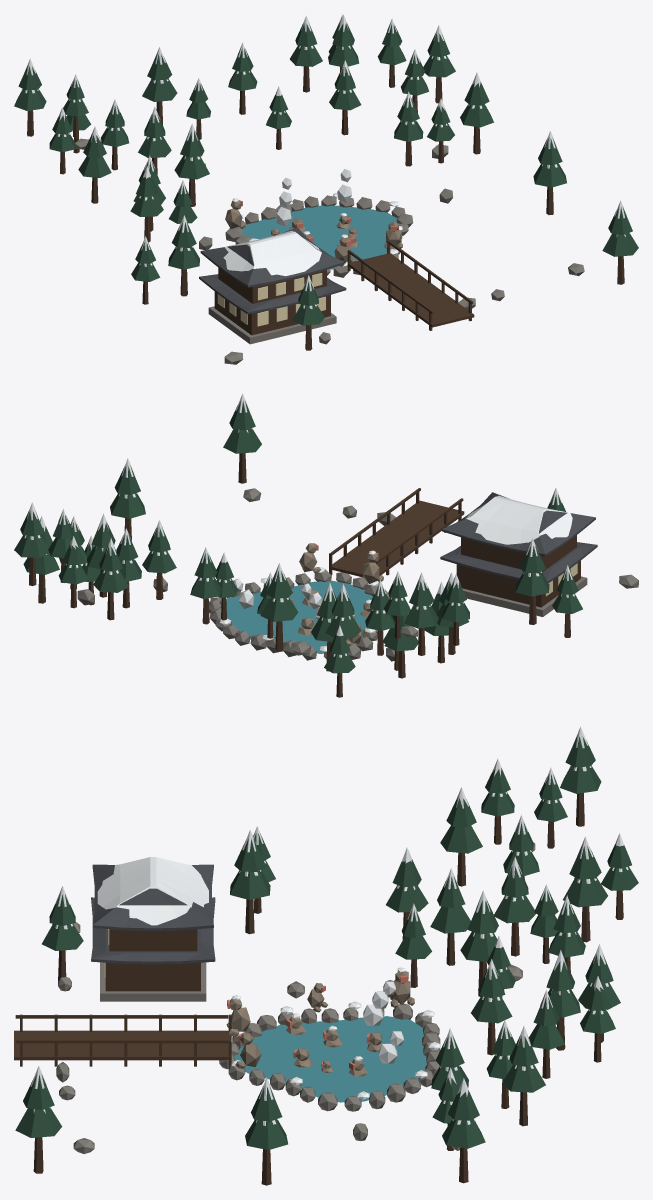
The model's file is snow-monkeys.glb.
3 renders of one model, top to bottom at view 1: azimuth 30°, elevation 25°; view 2: azimuth 150°, elevation 25°; view 3: azimuth 270°, elevation 25°, orthographic. The views are drawn at different scales.
Visible parts, largest first — view 1: snowmonkeys_fir, snowmonkeys_wood, snowmonkeys_snow, snowmonkeys_stone, snowmonkeys_water, snowmonkeys_roof, snowmonkeys_fur, glow_windows, snowmonkeys_steam; view 2: snowmonkeys_fir, snowmonkeys_wood, snowmonkeys_snow, snowmonkeys_stone, snowmonkeys_roof, snowmonkeys_water, snowmonkeys_fur, snowmonkeys_steam; view 3: snowmonkeys_fir, snowmonkeys_wood, snowmonkeys_snow, snowmonkeys_water, snowmonkeys_stone, snowmonkeys_roof, snowmonkeys_fur, snowmonkeys_steam.
Boxes of the visible parts, x1,y1,x2,y2 form: snowmonkeys_fir: (14,22,638,325); snowmonkeys_wood: (27,64,624,350); snowmonkeys_snow: (22,14,629,308); snowmonkeys_stone: (75,138,584,364); snowmonkeys_water: (242,205,397,269); snowmonkeys_roof: (199,227,346,314); snowmonkeys_fur: (225,200,402,266); glow_windows: (217,273,325,326); snowmonkeys_steam: (275,169,351,226); snowmonkeys_fir: (14,401,582,673); snowmonkeys_wood: (29,453,580,697); snowmonkeys_snow: (24,393,574,657); snowmonkeys_stone: (77,488,638,661); snowmonkeys_roof: (440,492,597,582); snowmonkeys_water: (226,580,373,653); snowmonkeys_fur: (290,543,383,646); snowmonkeys_steam: (233,578,322,619); snowmonkeys_fir: (15,736,638,1149); snowmonkeys_wood: (14,793,623,1185); snowmonkeys_snow: (30,726,628,1125); snowmonkeys_water: (234,1016,427,1102); snowmonkeys_stone: (56,842,535,1153); snowmonkeys_roof: (91,864,215,964); snowmonkeys_fur: (226,971,414,1076); snowmonkeys_steam: (363,981,403,1063).
Bounding box in the file's own units: 17.76 × 6.37 × 17.05.
